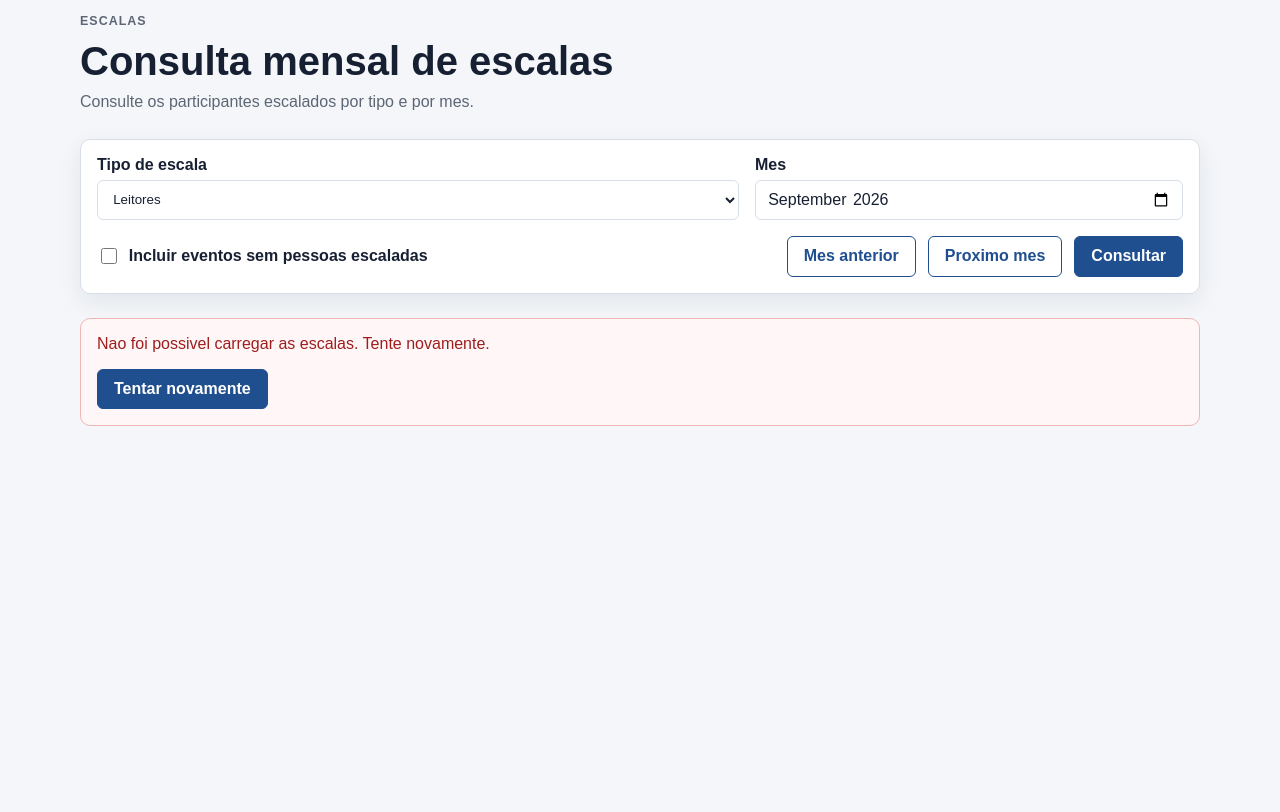
Test: EventScheduleListComponent › should show an error message and allow retrying the last valid query
Click the button with class "event-schedules__button" at {"x": 182, "y": 389}, box 97,369 -> 268,410
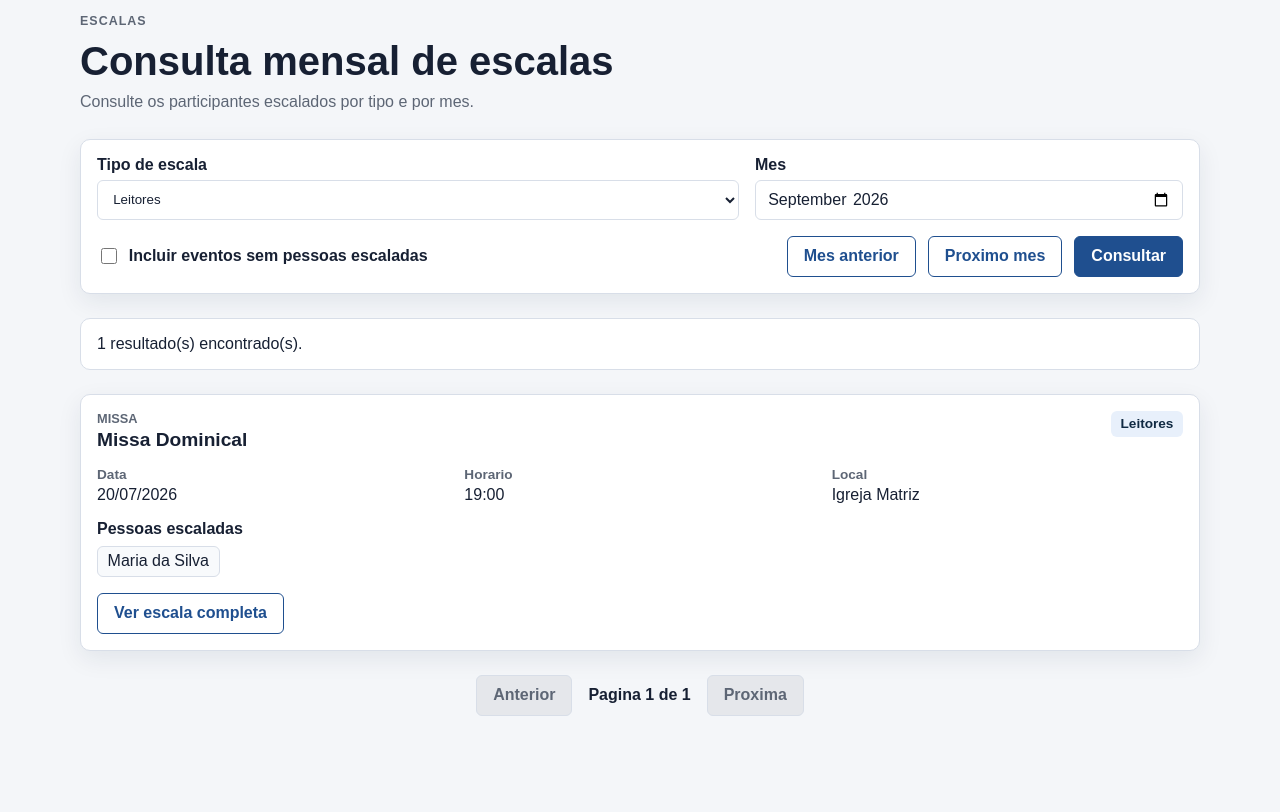
Check: the text "Missa Dominical" is shown, box 97,429 -> 247,451
